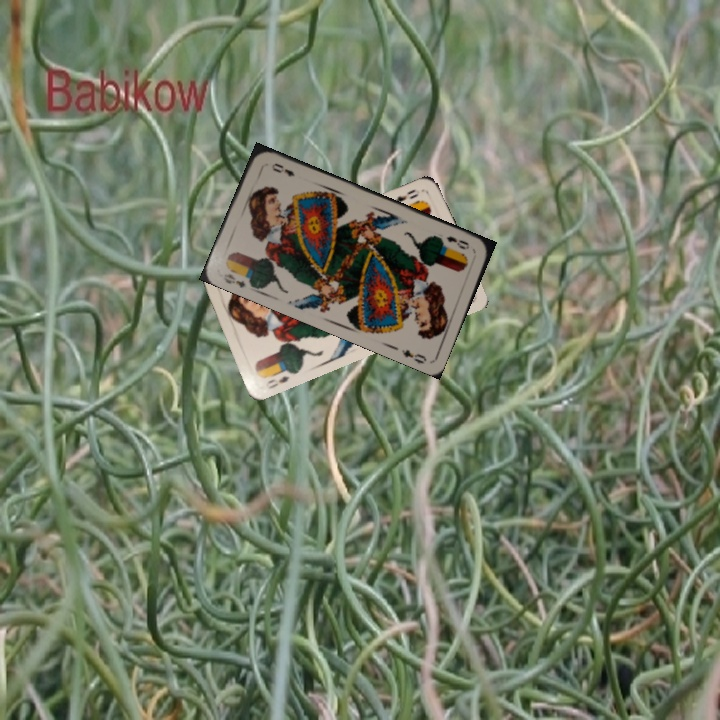EO: (219, 269, 248, 291), (391, 185, 422, 205), (442, 232, 472, 252), (263, 372, 291, 391)
